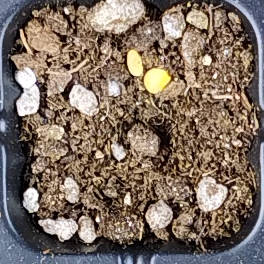chilli seed: (143, 67, 171, 93), (125, 49, 144, 76)
